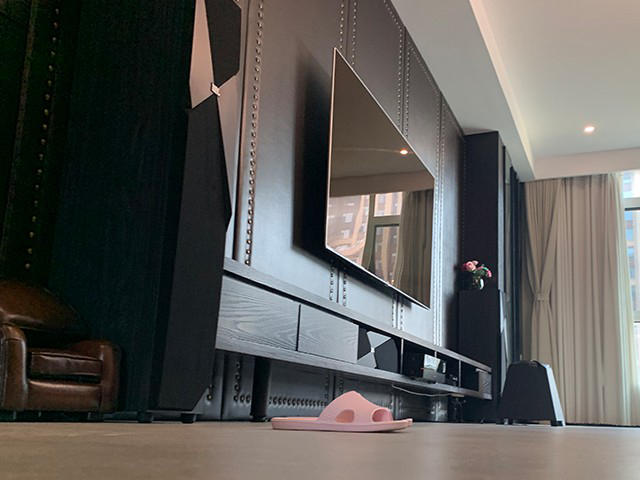cabinet: (215, 256, 494, 422)
curtain: (520, 171, 636, 426)
slippers: (270, 389, 414, 433)
sofa: (2, 276, 123, 424)
